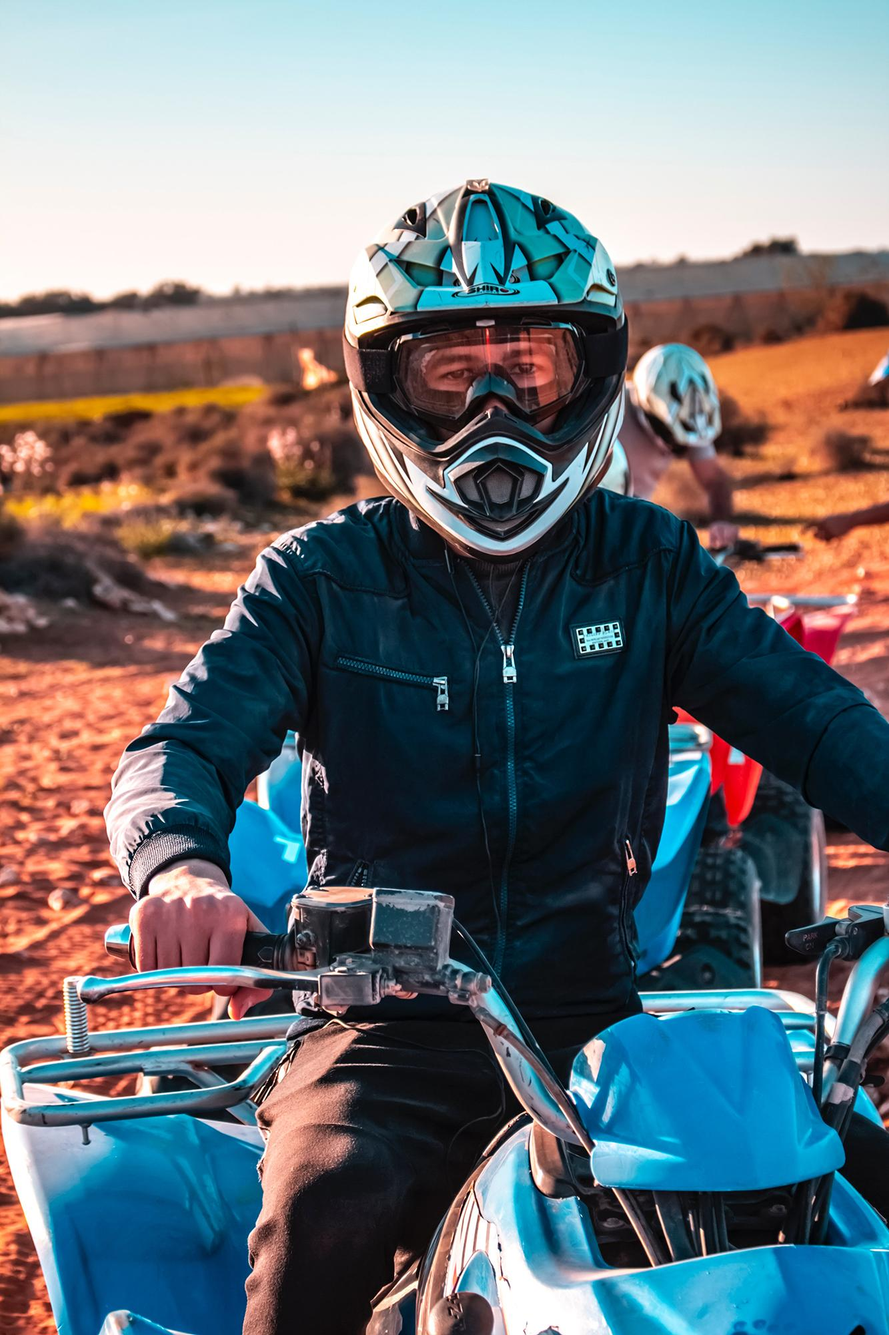helmet: (340, 176, 631, 567)
